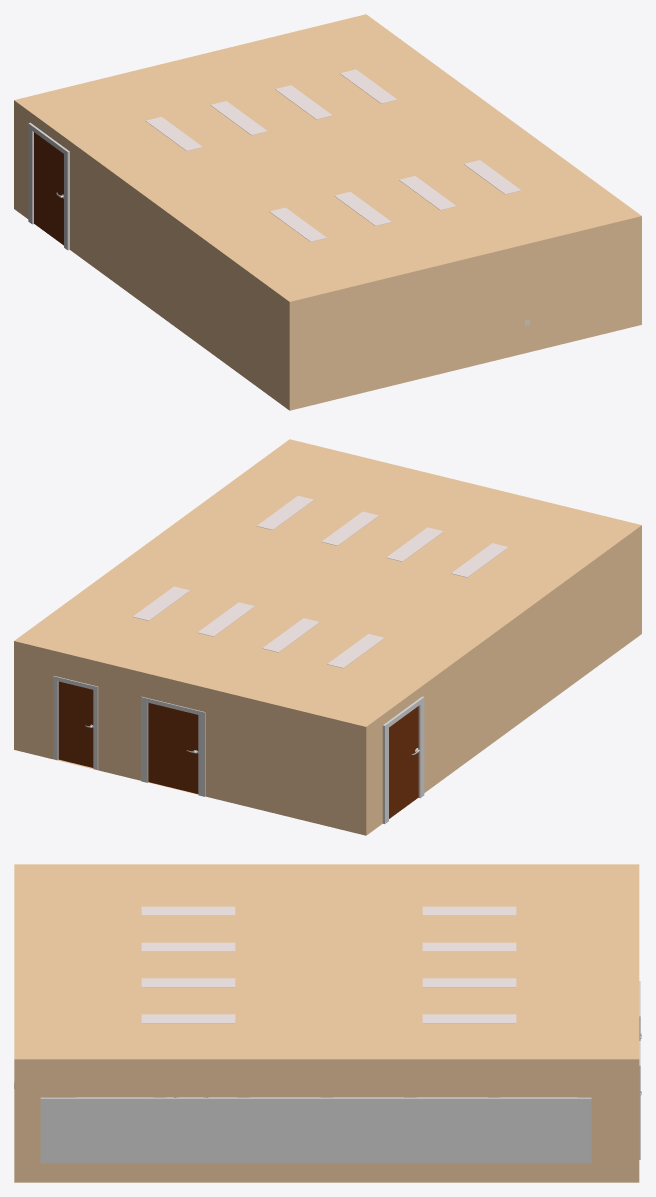
Rendered from computer_Lab.fbx.
3 renders of one model, top to bottom at view 1: azimuth 30°, elevation 25°; view 2: azimuth 150°, elevation 25°; view 3: azimuth 270°, elevation 25°, orthographic. The views are drawn at different scales.
Visible parts, largest first — view 1: Computer_Hall, Cube.017, Door, DoorFrame; view 2: Computer_Hall, Cube.017, Door.002, Door.001, Door, DoorFrame.002, DoorFrame, DoorFrame.001; view 3: Computer_Hall, Cube.001, Cube.017.
Part boxes in pixels (x1,y1,x2,y2): Computer_Hall: (14, 14, 641, 410); Cube.017: (145, 69, 521, 241); Door: (34, 132, 63, 245); DoorFrame: (28, 122, 69, 250); Computer_Hall: (14, 439, 641, 835); Cube.017: (133, 495, 508, 668); Door.002: (148, 703, 198, 793); Door.001: (58, 681, 93, 767); Door: (389, 706, 418, 818); DoorFrame.002: (141, 696, 205, 796); DoorFrame: (382, 696, 424, 823); DoorFrame.001: (53, 676, 98, 769); Computer_Hall: (14, 864, 639, 1182); Cube.001: (40, 1097, 591, 1163); Cube.017: (141, 906, 516, 1023).
Size of the model in its own units: 1812 by 526 by 2417.
8 materials, 6 textured.
